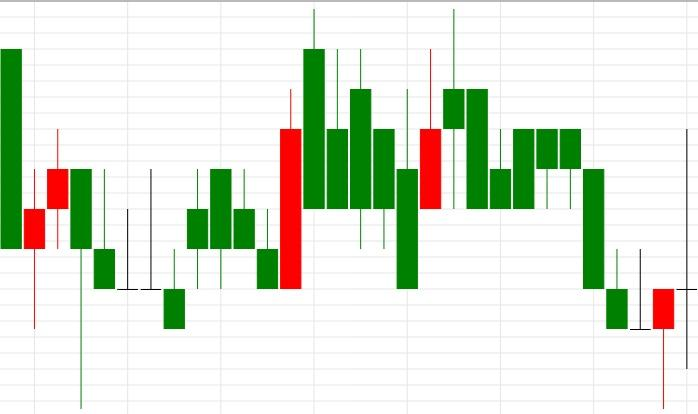hammer_rise: (536, 128, 674, 409)
